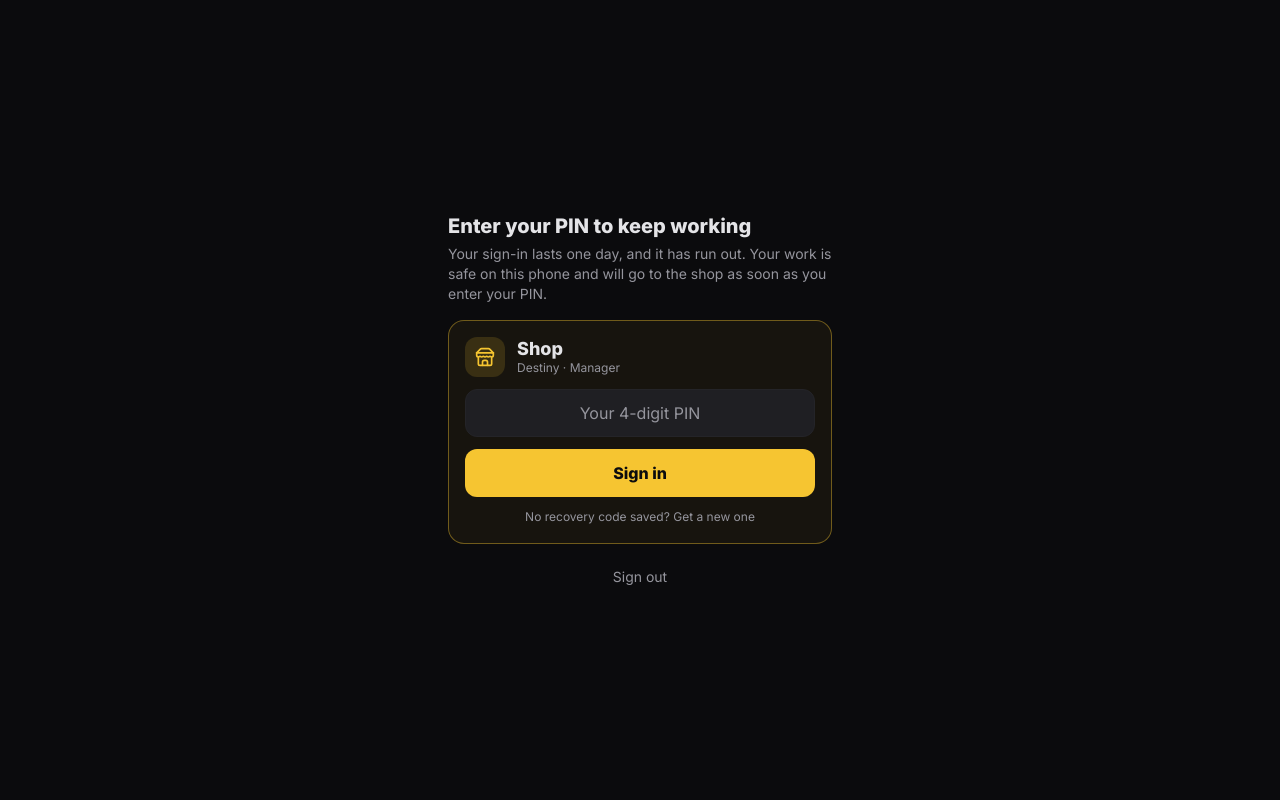
Test: the prompt › stays, and says why, on a wrong PIN
Type "9999" into the password field named "Your PIN" at (640, 413), box 465,389 -> 815,437
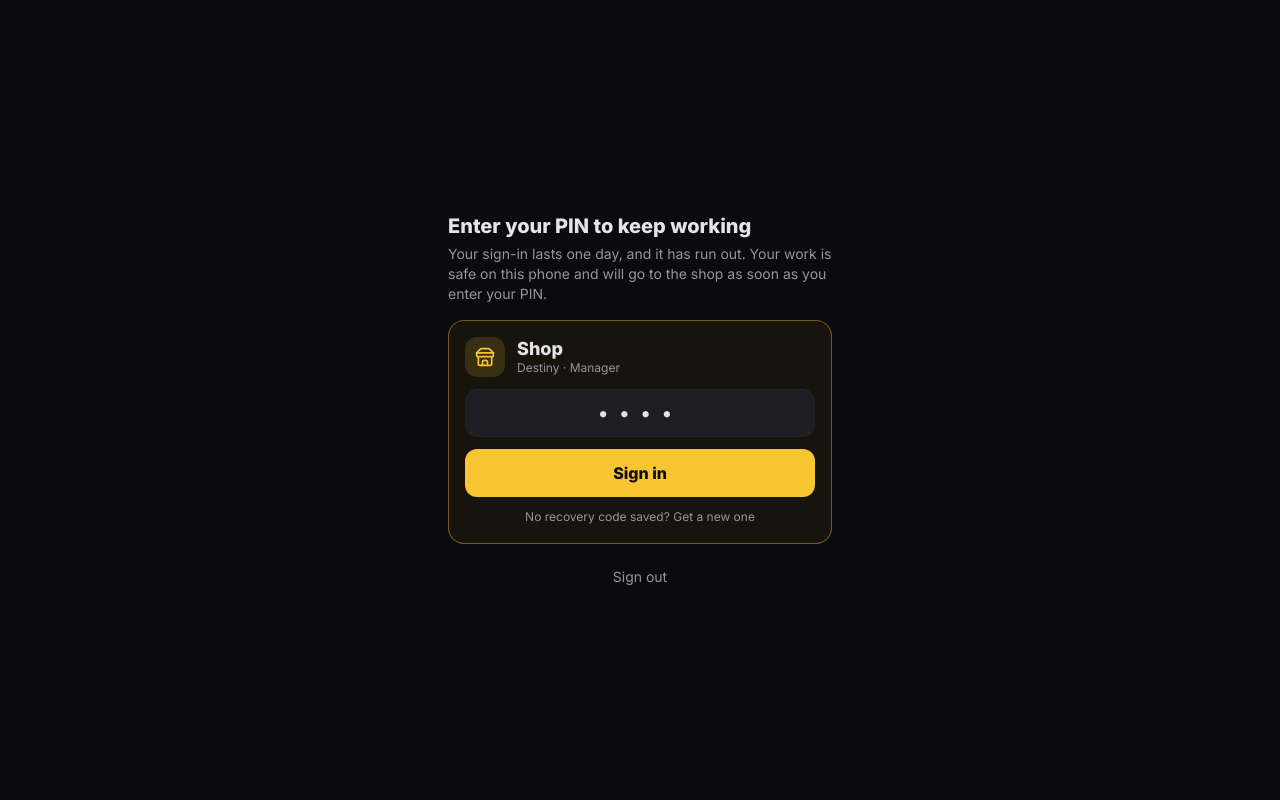
Click the button "Sign in" at (640, 473), box 465,449 -> 815,497
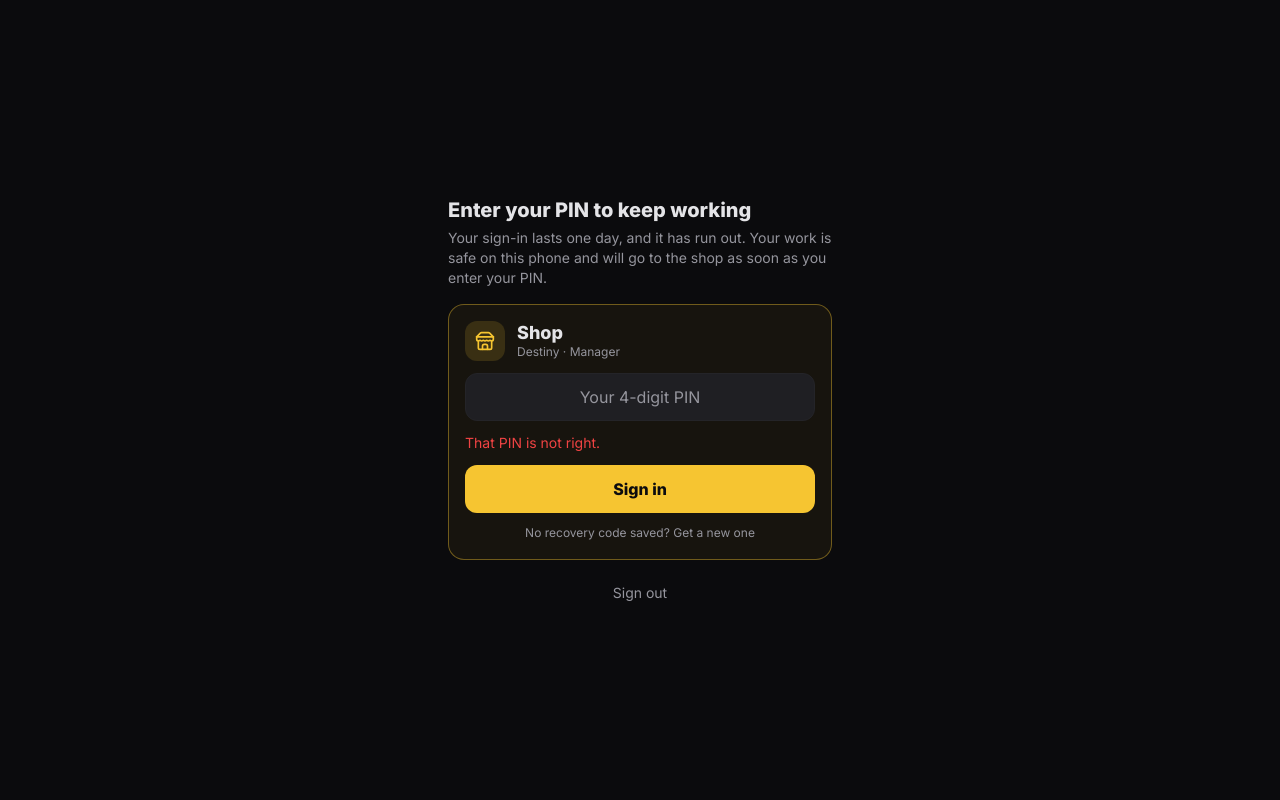
Expected: the text "That PIN is not right." is shown, 465,434 -> 600,451
